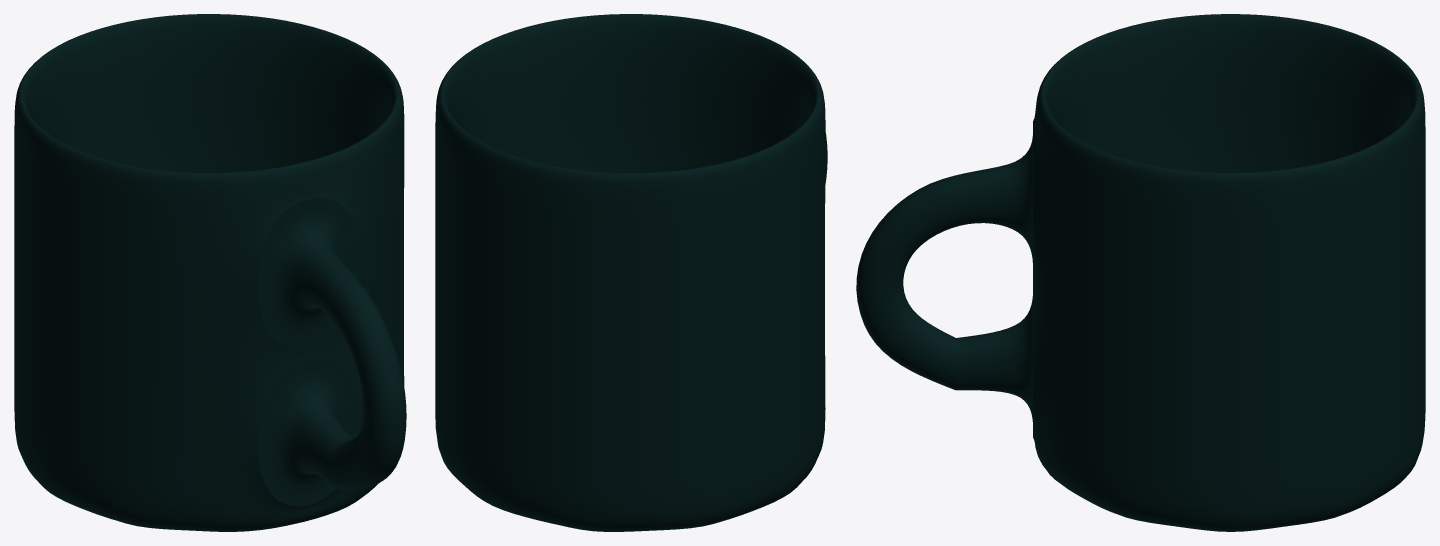
Rendered from 0709mug.obj.
3 views of the same model, side by side, from view 1: azimuth 30°, elevation 25°; view 2: azimuth 150°, elevation 25°; view 3: azimuth 270°, elevation 25° (orthographic).
Parts seen in each view (by area): view 1: pCylinder1; view 2: pCylinder1; view 3: pCylinder1.
Boxes of the visible parts, x1=… form: pCylinder1: x1=14, y1=14, x2=406, y2=531; pCylinder1: x1=435, y1=14, x2=827, y2=531; pCylinder1: x1=856, y1=14, x2=1425, y2=531.
Bounding box in the file's own units: 3.75 × 3.96 × 5.47.
